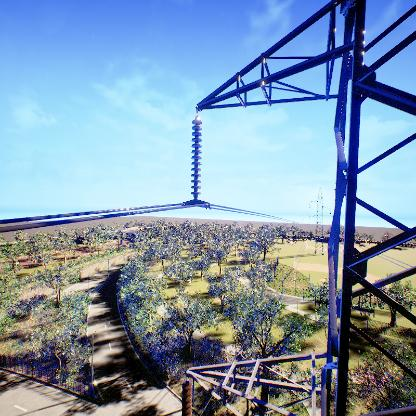insulator: (190, 118, 205, 197)
